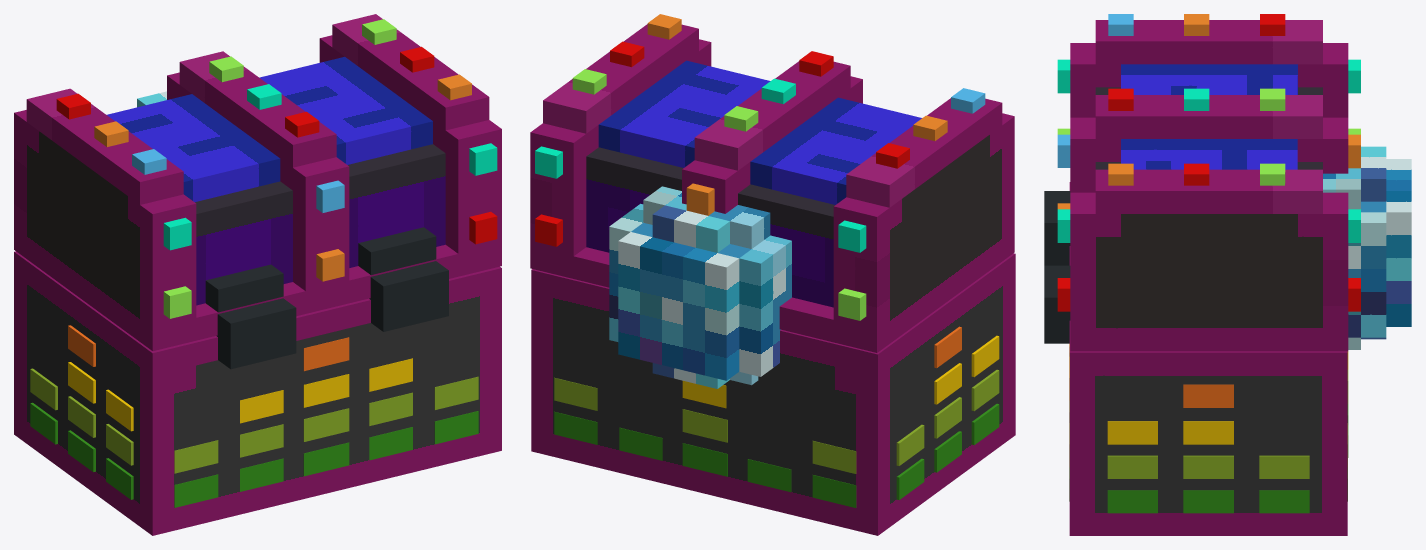
Rendered from chestdisco_1x1x1.gltf.
3 views of the same model, side by side, from view 1: azimuth 30°, elevation 25°; view 2: azimuth 150°, elevation 25°; view 3: azimuth 270°, elevation 25° (orthographic).
Visible parts, largest first — view 1: top$$(3)-Local, Chest4-Local, top2$$(3)-Local, eq15-Local, eq2$$(5)-Local, eq2$$(4)-Local, eq14-Local, eq2$$(1)-Local, EQ8-Local, eq3$$(4)-Local, eq3$$(1)-Local, eq3$$(5)-Local (+2 smaller); view 2: top$$(3)-Local, Chest4-Local, dadengqiu-Local, top2$$(3)-Local, eq13-Local, EQ8-Local, eq2$$(1)-Local, eq12-Local, eq2$$(3)-Local, eq3$$(1)-Local, eq2$$(2)-Local, eq3$$(3)-Local (+1 smaller); view 3: top$$(3)-Local, Chest4-Local, dadengqiu-Local, top2$$(3)-Local, eq1-Local, eq2-Local, eq3-Local, EQ4-Local.
Part boxes in pixels (box(x1,y1,x2,y2)): top$$(3)-Local: box(14, 14, 501, 350); Chest4-Local: box(14, 251, 501, 535); top2$$(3)-Local: box(56, 19, 497, 318); eq15-Local: box(303, 411, 478, 476); eq2$$(5)-Local: box(303, 376, 478, 441); eq2$$(4)-Local: box(174, 408, 349, 473); eq14-Local: box(174, 442, 349, 507); eq2$$(1)-Local: box(30, 368, 133, 465); EQ8-Local: box(30, 402, 133, 499); eq3$$(4)-Local: box(240, 374, 349, 423); eq3$$(1)-Local: box(68, 362, 133, 431); eq3$$(5)-Local: box(303, 358, 412, 407); top$$(3)-Local: box(530, 24, 1014, 352); Chest4-Local: box(531, 253, 1015, 535); dadengqiu-Local: box(609, 186, 791, 388); top2$$(3)-Local: box(535, 14, 985, 320); eq13-Local: box(682, 443, 856, 507); EQ8-Local: box(896, 403, 999, 499); eq2$$(1)-Local: box(896, 369, 999, 465); eq12-Local: box(554, 411, 727, 476); eq2$$(3)-Local: box(682, 409, 856, 473); eq3$$(1)-Local: box(934, 335, 999, 404); eq2$$(2)-Local: box(554, 377, 727, 442); eq3$$(3)-Local: box(682, 381, 726, 408); top$$(3)-Local: box(1070, 20, 1348, 351); Chest4-Local: box(1044, 182, 1347, 535); dadengqiu-Local: box(1323, 146, 1411, 349); top2$$(3)-Local: box(1057, 14, 1360, 311); eq1-Local: box(1107, 490, 1309, 513); eq2-Local: box(1107, 455, 1309, 478); eq3-Local: box(1107, 421, 1233, 444); EQ4-Local: box(1183, 384, 1233, 407).
Bounding box in the file's own units: 16.16 × 15.57 × 14.53.
Materials: 25 (25 with a texture image).
